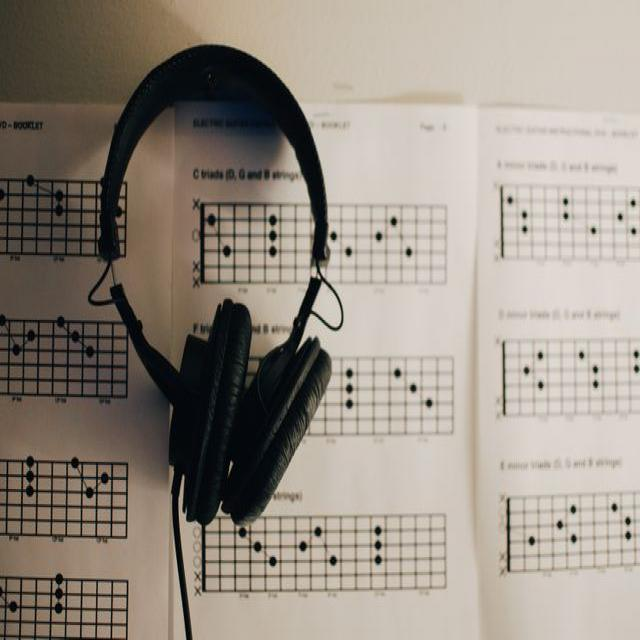headphones: (110, 66, 337, 498)
